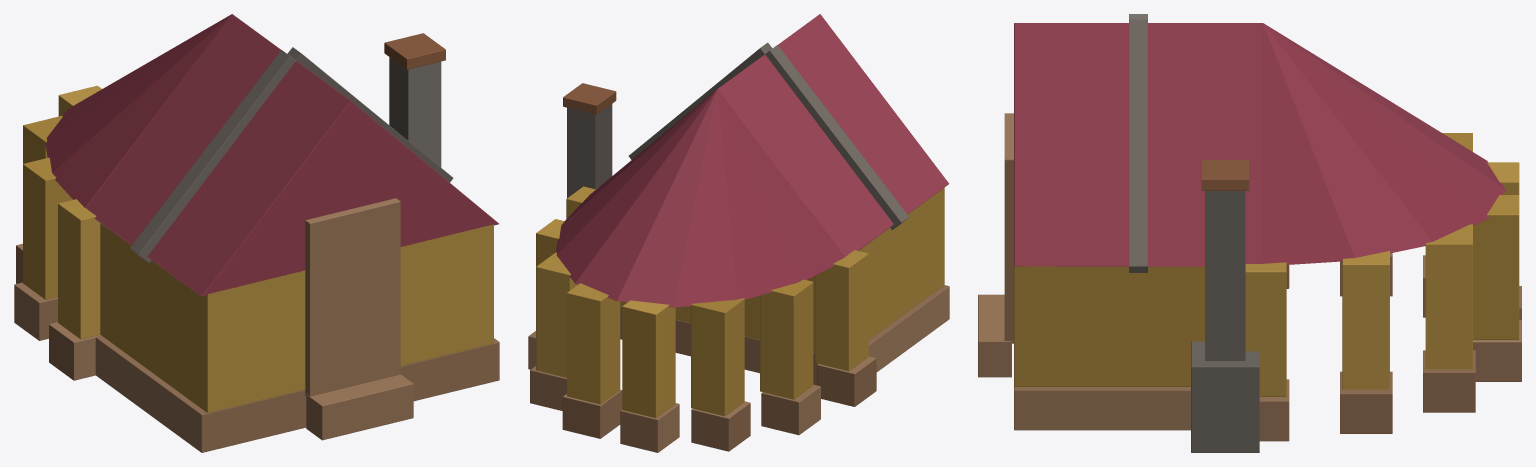
Rendered from House_Chalco_b.fbx.
3 views of the same model, side by side, from view 1: azimuth 30°, elevation 25°; view 2: azimuth 150°, elevation 25°; view 3: azimuth 270°, elevation 25° (orthographic). The views are drawn at different scales.
Visible parts, largest first — view 1: House_Chalco_b; view 2: House_Chalco_b; view 3: House_Chalco_b.
Part boxes in pixels (x1,y1,x2,y2): House_Chalco_b: (14, 14, 499, 452); House_Chalco_b: (528, 14, 949, 452); House_Chalco_b: (978, 14, 1521, 452).
Size of what is drawn, in the model's own units: 4.17 by 3.52 by 5.14.
